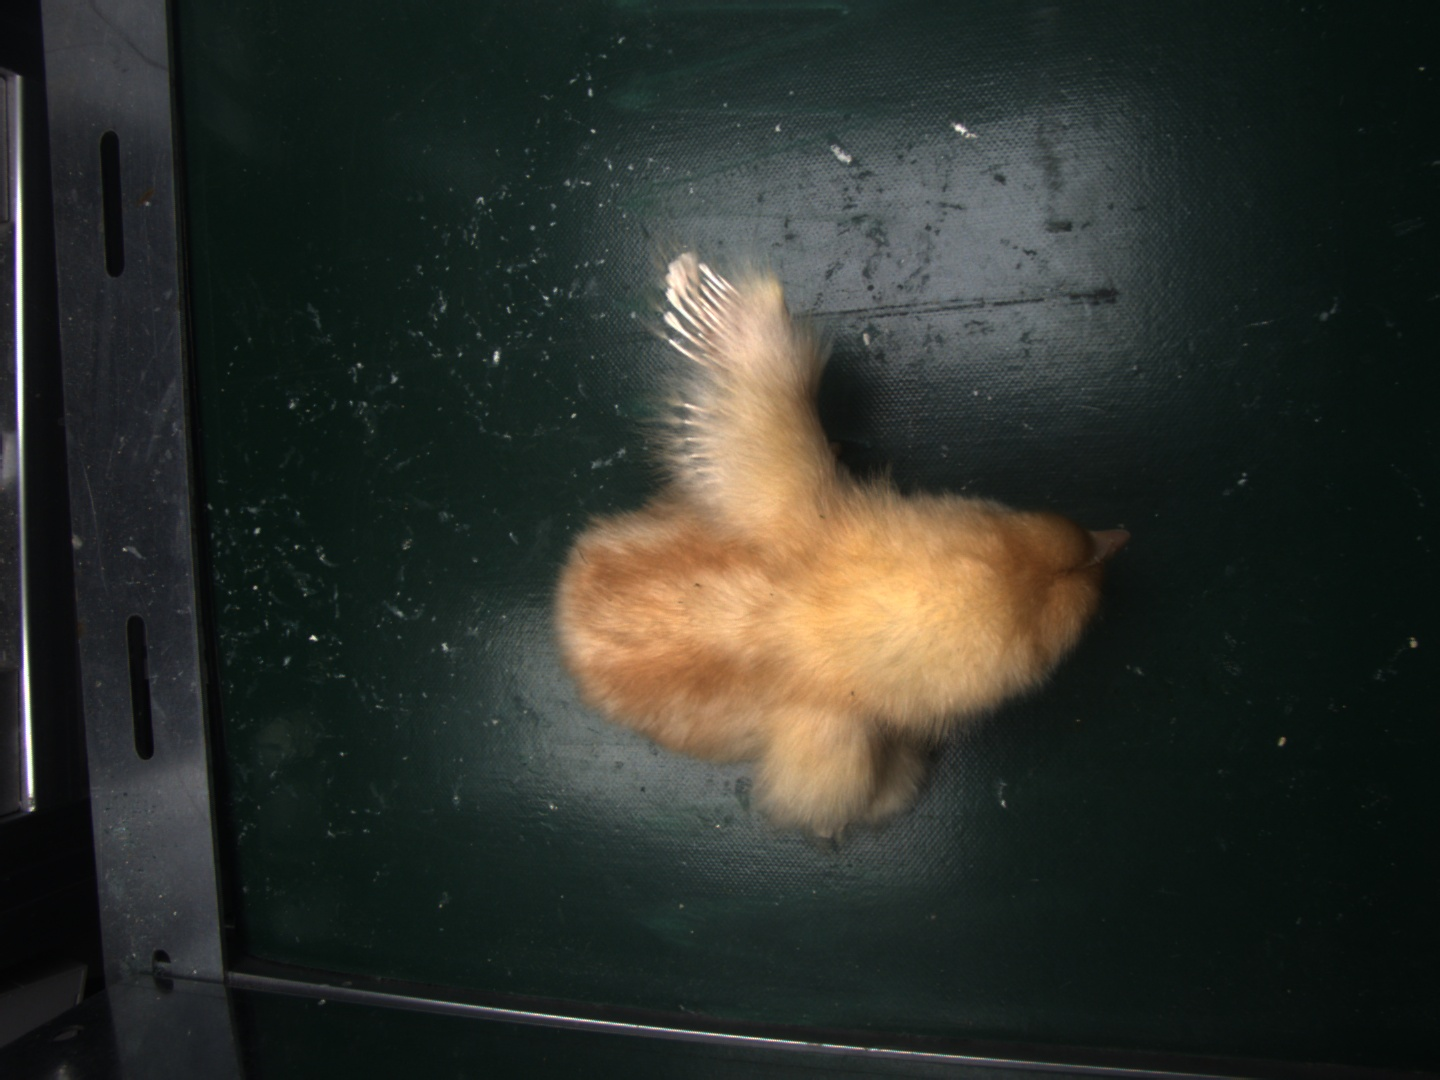female: (654, 248, 742, 364)
